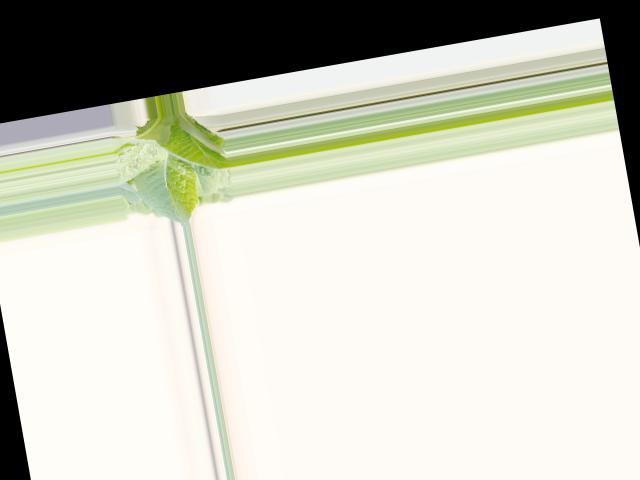lettuce: (119, 106, 234, 223)
